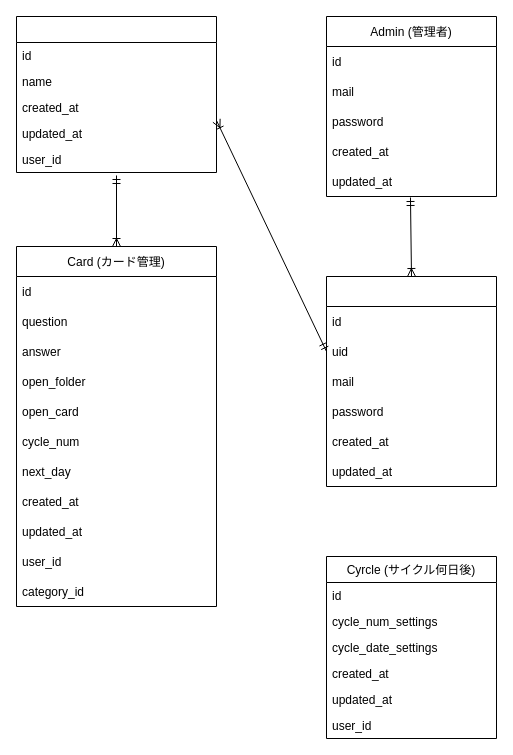
Some shapes in this 513 by 755 pixel diagram are drawn without their labels. The shapes that lost their labels are listed below. From the top down, each one's box as (x1, y1, x2, y2) in pixels, then its label:
(16, 16, 216, 172): Category (カード用カテゴリ)
(326, 276, 496, 486): User (利用者)
